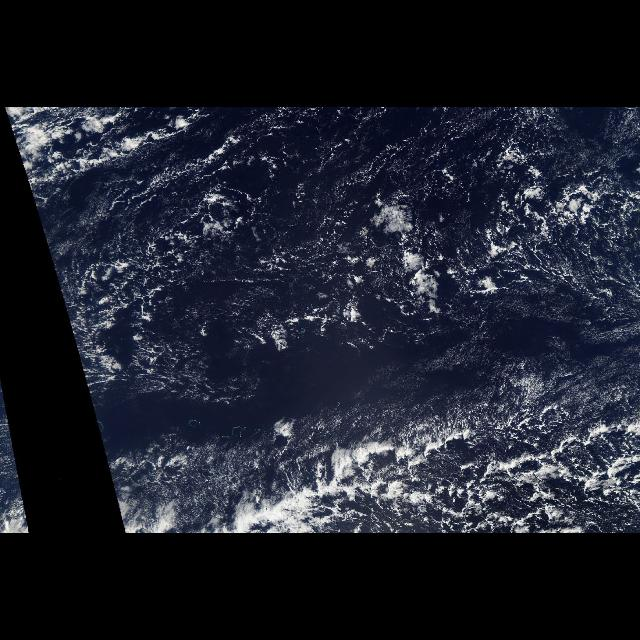Fish: (179, 432, 493, 534)
Gravel: (123, 120, 637, 530)
